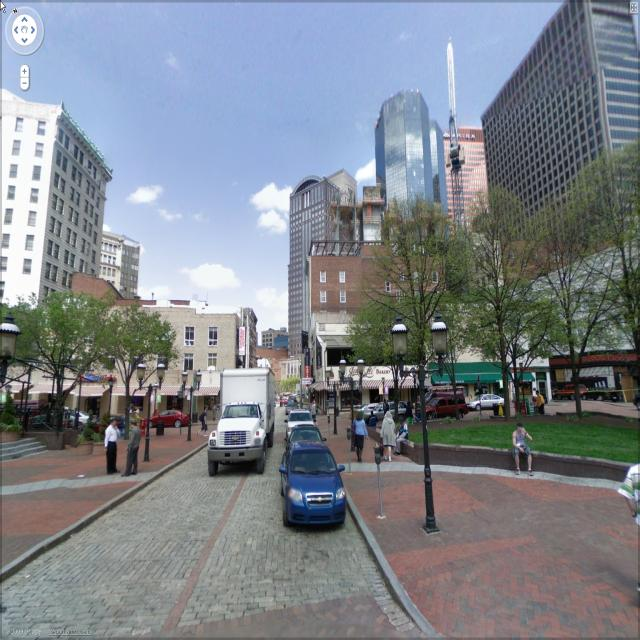b_1: (485, 1, 639, 201), (0, 118, 116, 301), (308, 245, 364, 412), (374, 107, 442, 241), (287, 181, 339, 350)
b_2: (485, 37, 640, 412), (2, 299, 246, 460), (441, 122, 509, 410), (316, 304, 468, 425)
